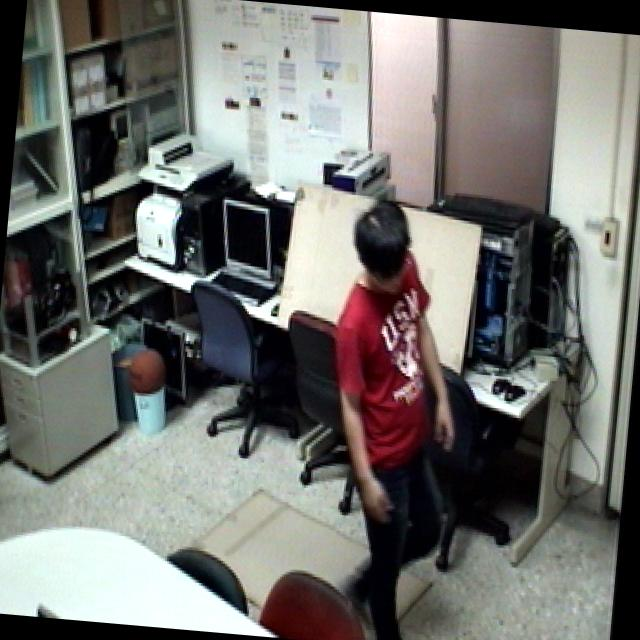stand: (294, 177, 486, 640)
